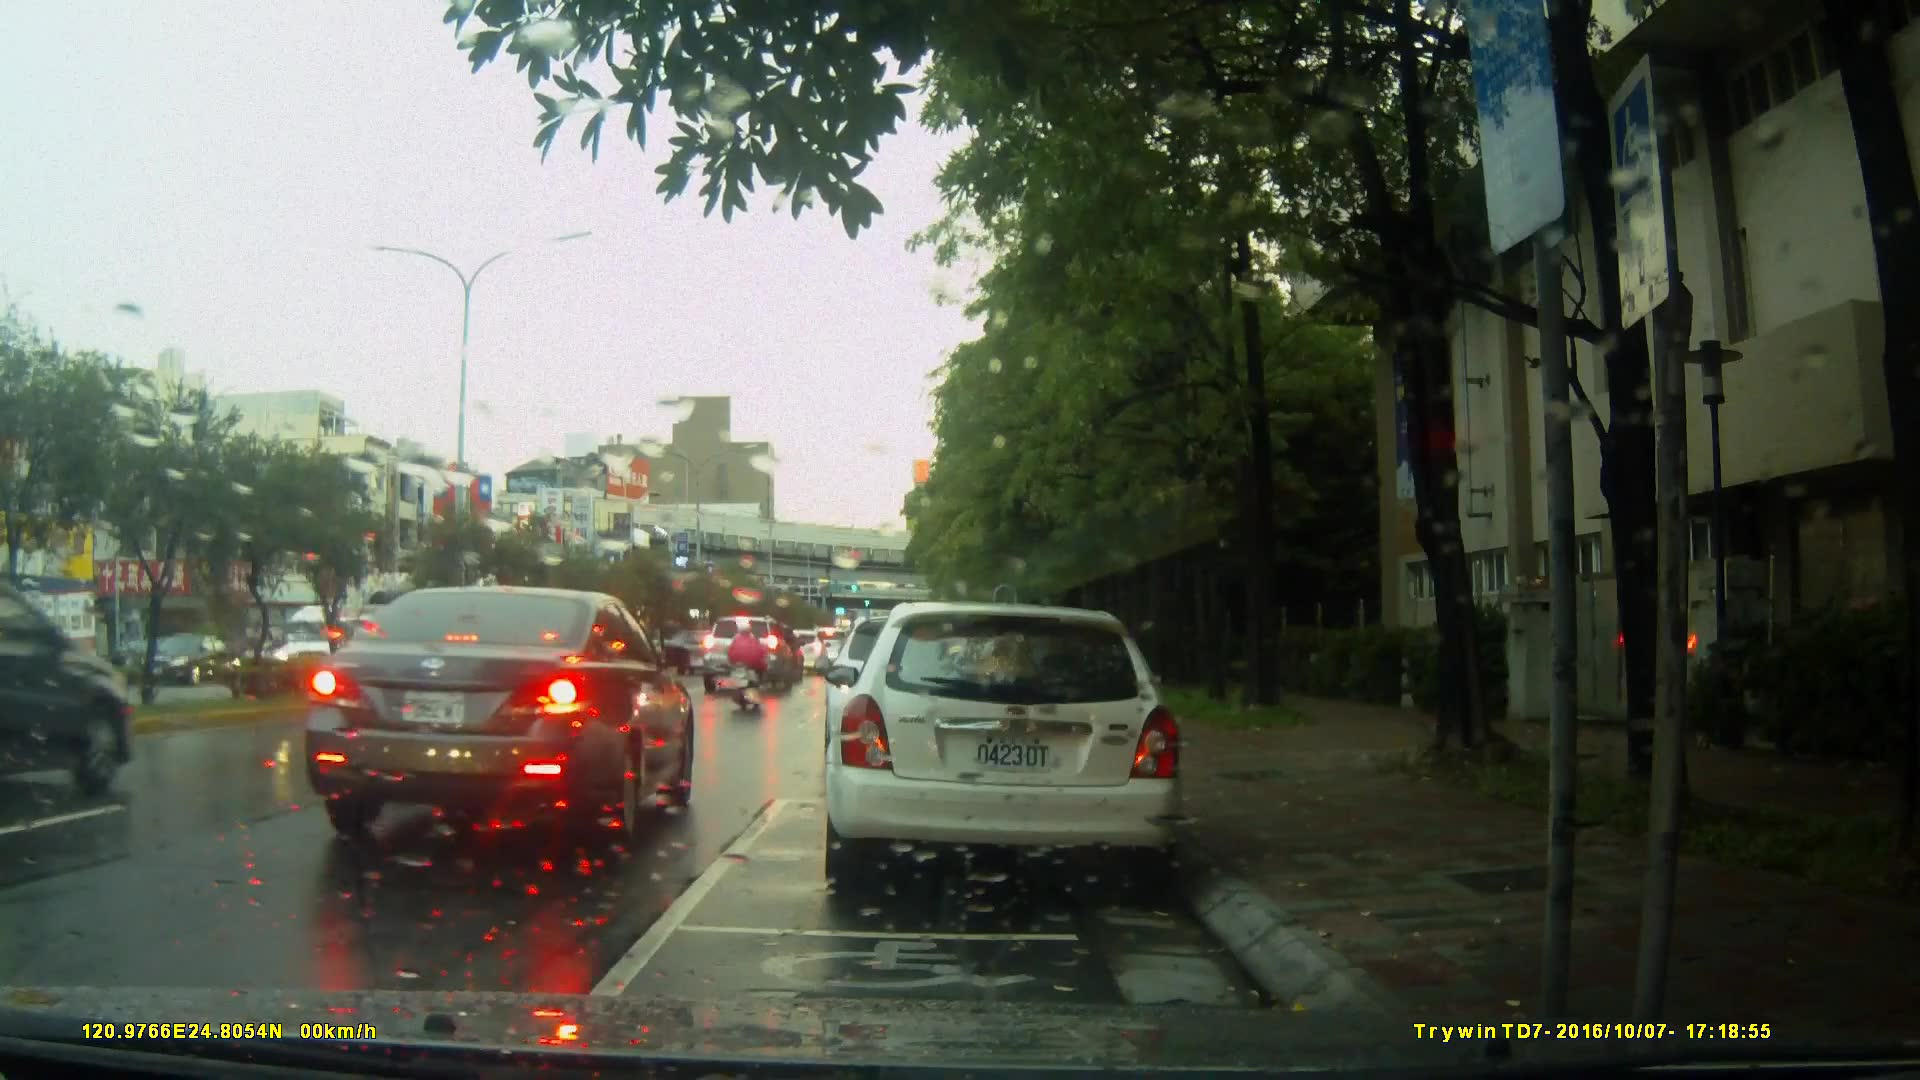pedestrian: (1875, 493, 1920, 968)
rider: (729, 617, 769, 720)
vehicle: (820, 602, 1188, 898), (300, 583, 700, 854), (1, 570, 137, 805), (703, 616, 795, 696)
